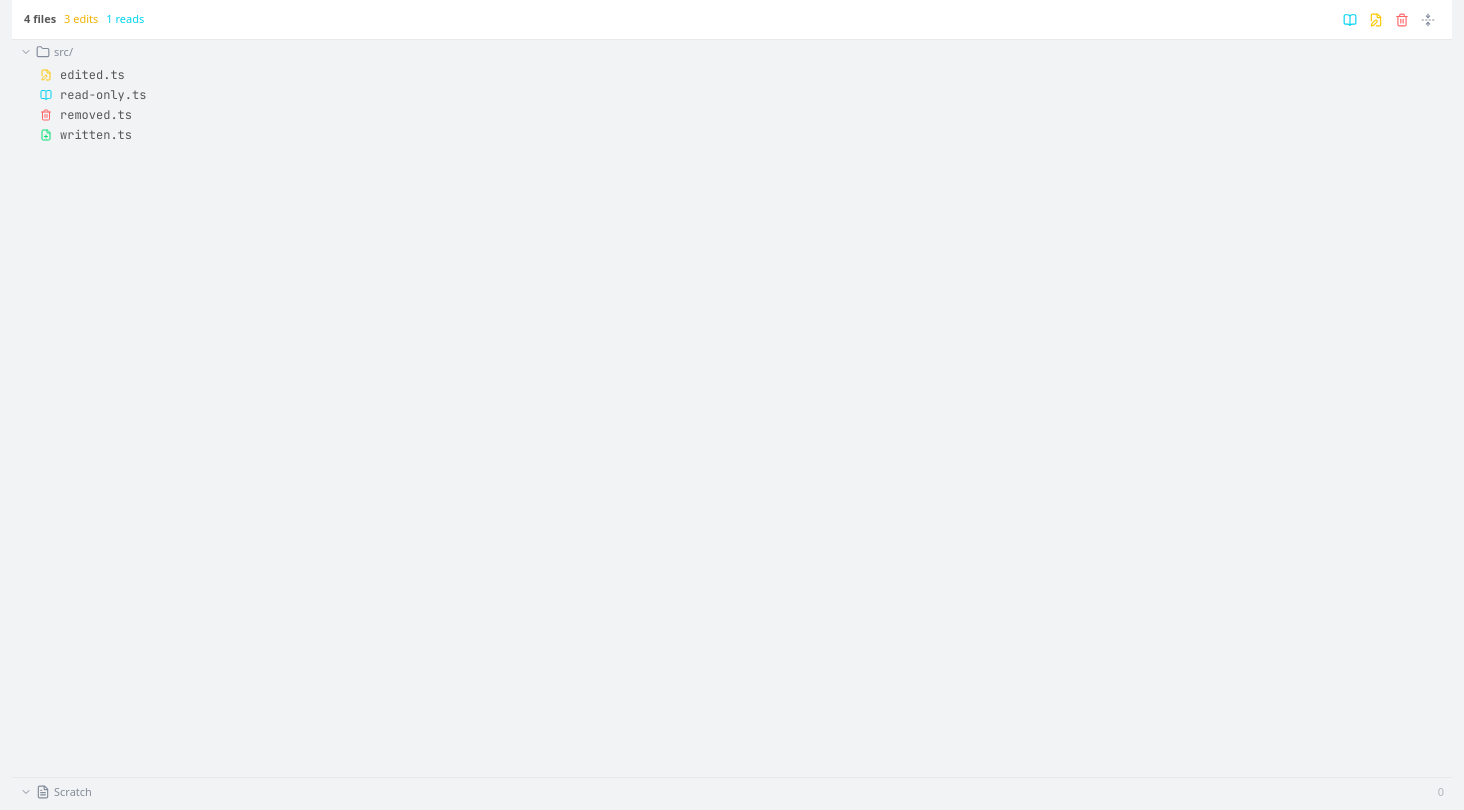
Scenario: FileAccessTree kind toggles › hiding deletes removes delete files
Click the button named "Hide deletes" at (1402, 20), box [1390,8,1414,32]
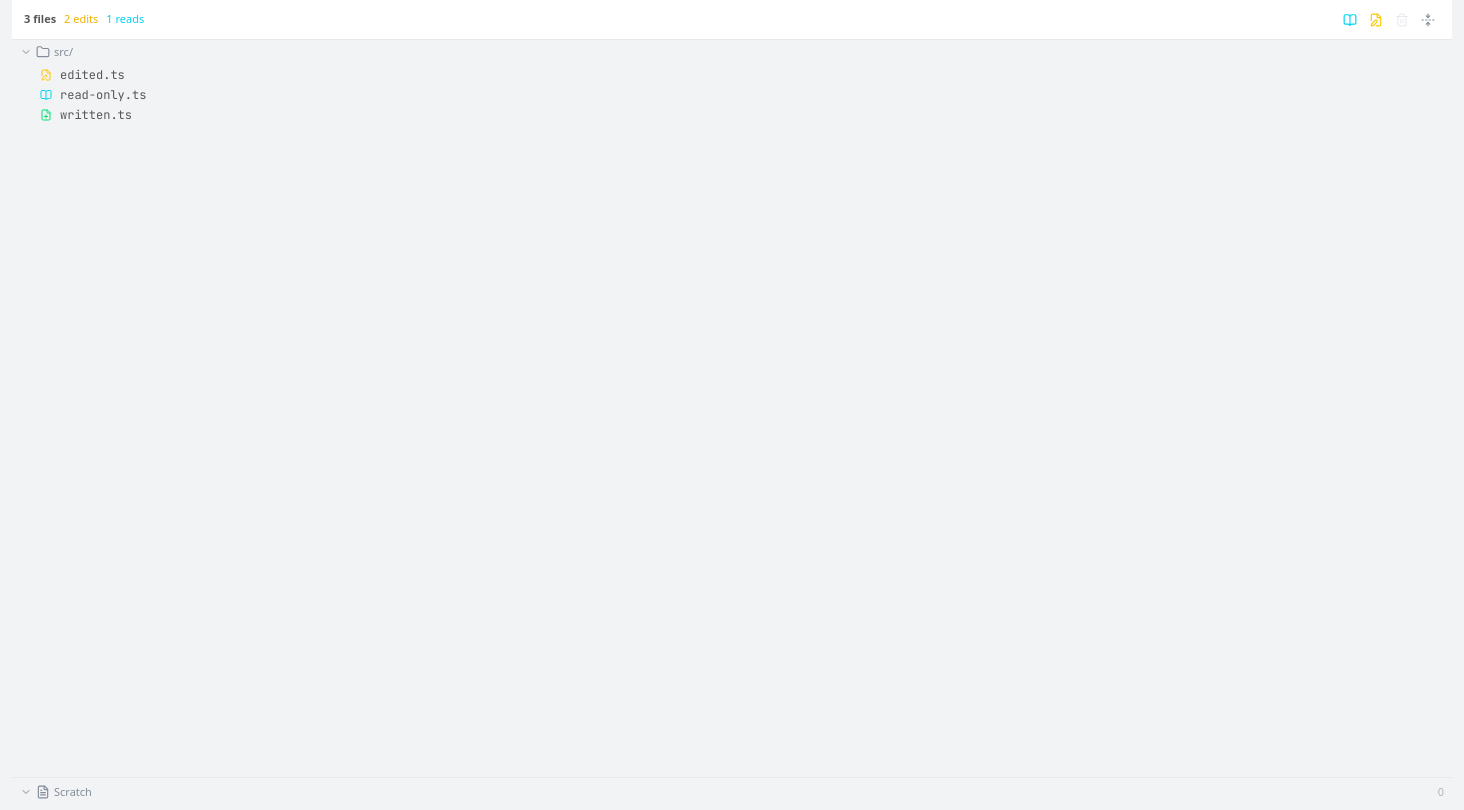
Expected: the text "read-only.ts" is shown, [60,86,146,102]
Expected: the button "removed.ts" is gone
